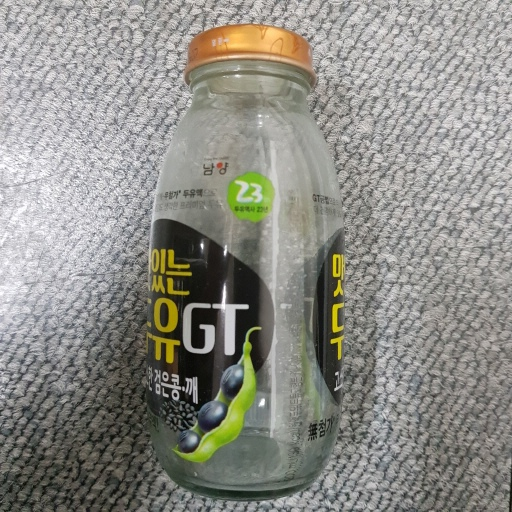Glass_4: (141, 25, 345, 496)
